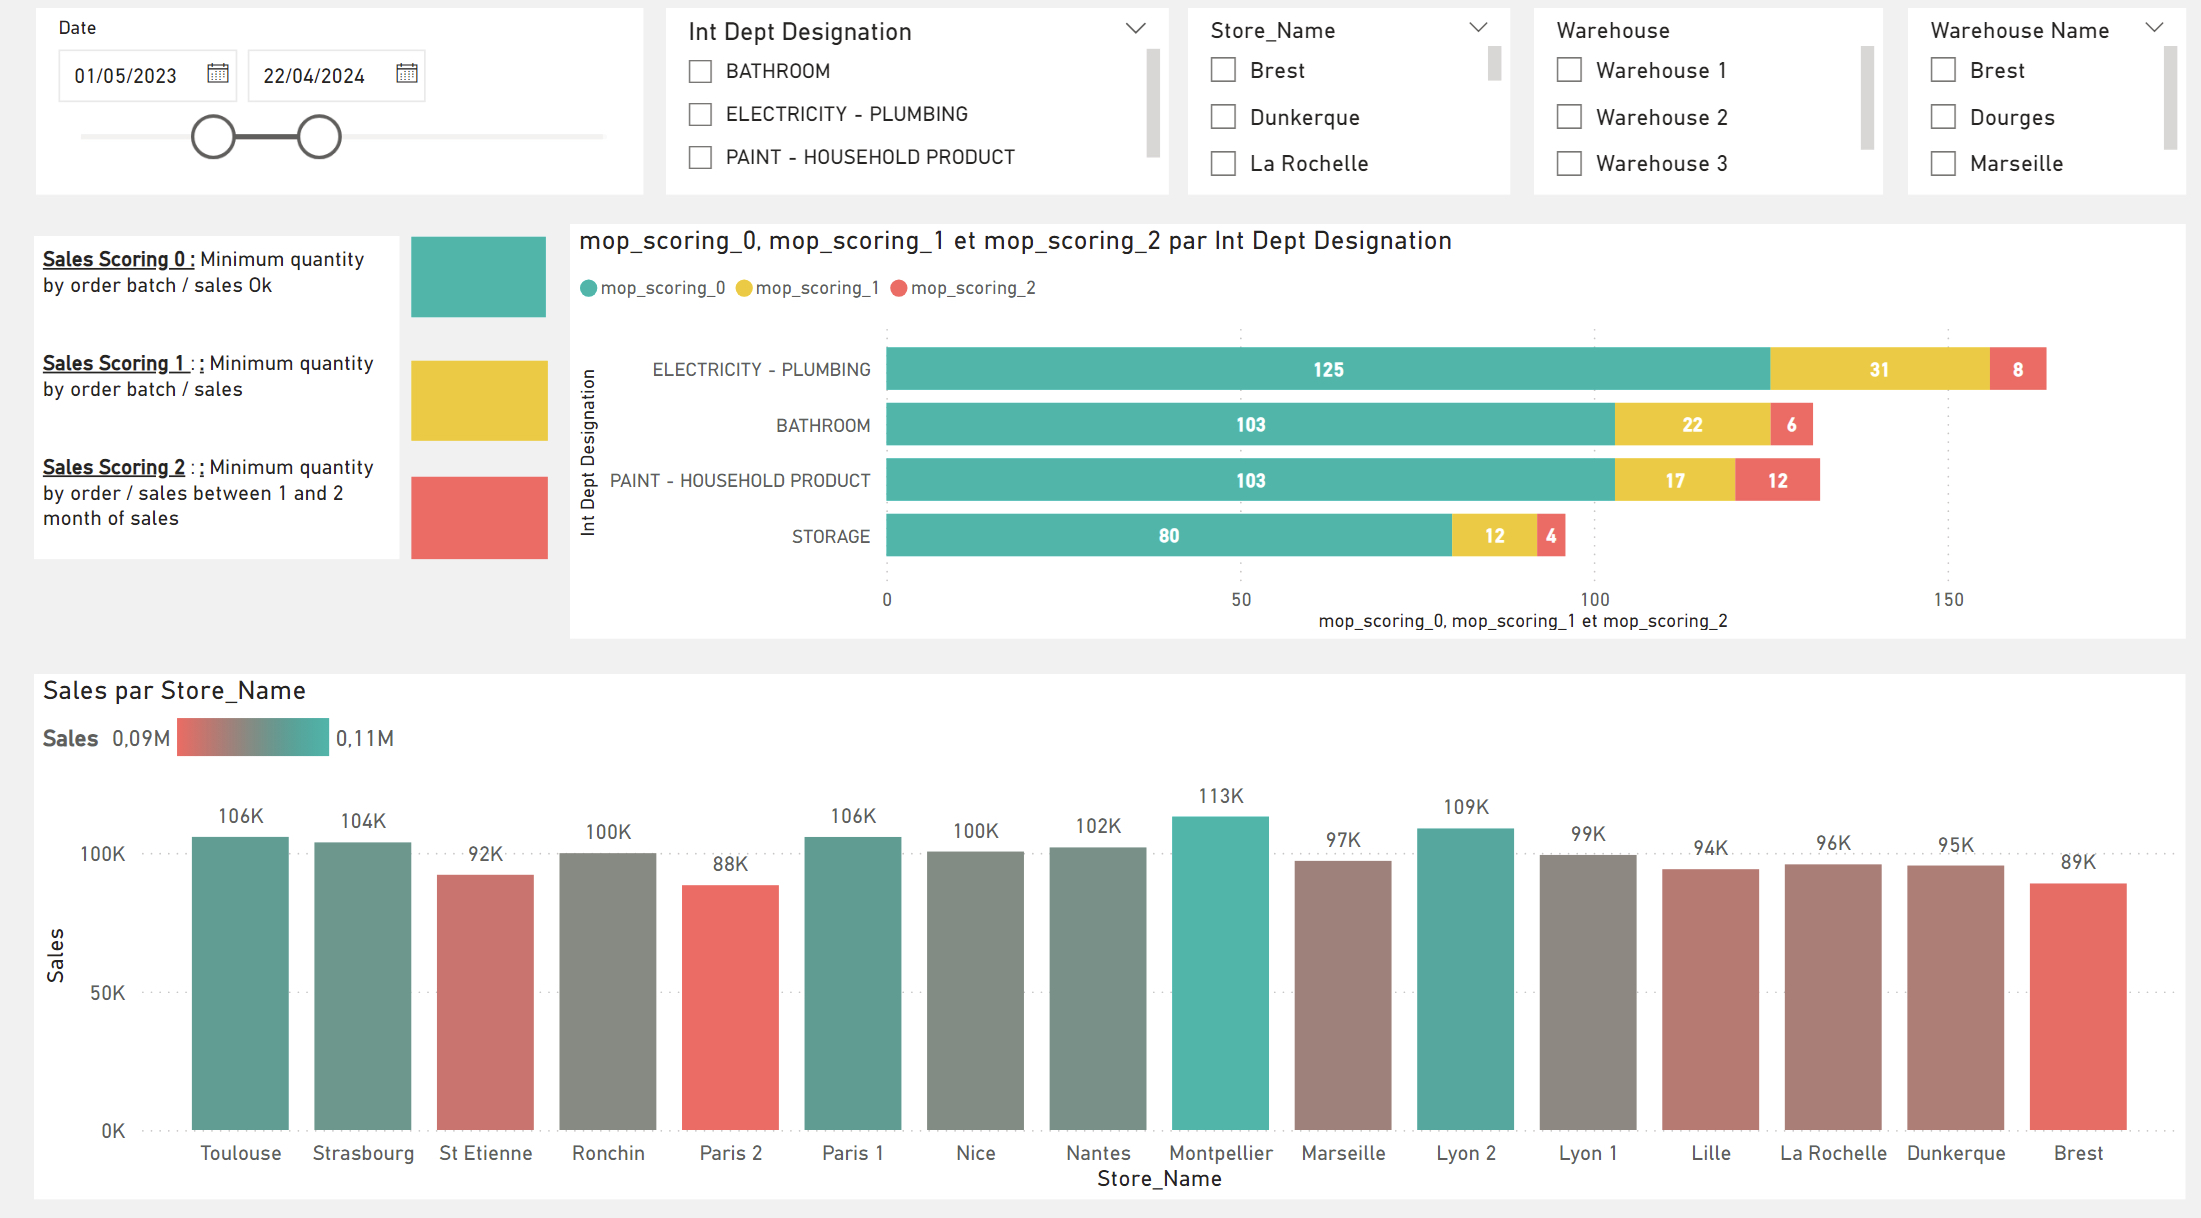

Layout of this report page (visuals, bound fields, positions):
{"tool":"powerbi","page":{"name":"sales performance","canvas":[1280,720],"ordinal":0},"visuals":[{"type":"slicer","fields":{"Values":["calendar.Date"]},"box":[21.6,14,351.7,107.9],"z":0},{"type":"slicer","fields":{"Values":["international_range.Int Dept Designation"]},"box":[386,14,290.8,107.9],"z":1000},{"type":"slicer","fields":{"Values":["store.Store_Name"]},"box":[688.3,14,186.7,107.9],"z":2000},{"type":"slicer","fields":{"Values":["stock_data.Warehouse"]},"box":[888.9,14,201.9,107.9],"z":3000},{"type":"basicShape","box":[238.7,145.7,79.4,47.4],"z":4000},{"type":"basicShape","box":[238.7,217.4,80.6,47.1],"z":5000},{"type":"basicShape","box":[238.7,284.3,80.6,48.6],"z":6000},{"type":"textbox","box":[21.3,145.9,211.3,187],"z":7000},{"type":"columnChart","fields":{"Y":["Sum(sales_data.Sales)"],"Category":["store.Store_Name"]},"box":[21.3,399.8,1245,304],"z":9000},{"type":"slicer","fields":{"Values":["warehouse.Warehouse Name"]},"box":[1105.2,13.7,161.1,107.9],"z":10000},{"type":"barChart","fields":{"Category":["international_range.Int Dept Designation","international_range.Department Name","international_range.No Int Family"],"Y":["Measures (2).mop_scoring_0","Measures (2).mop_scoring_1","Measures (2).mop_scoring_2"]},"box":[331.4,138.3,934.9,240.2],"z":11000}]}

Visuals, with their boxes in screenshot pixels (x1, y1, x2, y2), scaled from the page's 1280x720 canvas onto the 2201x1218 screenshot:
slicer - calendar.Date: <bbox>37, 24, 642, 206</bbox>
slicer - international_range.Int Dept Designation: <bbox>664, 24, 1164, 206</bbox>
slicer - store.Store_Name: <bbox>1184, 24, 1505, 206</bbox>
slicer - stock_data.Warehouse: <bbox>1528, 24, 1876, 206</bbox>
basicShape: <bbox>410, 246, 547, 327</bbox>
basicShape: <bbox>410, 368, 549, 447</bbox>
basicShape: <bbox>410, 481, 549, 563</bbox>
textbox: <bbox>37, 247, 400, 563</bbox>
columnChart - Sum(sales_data.Sales) x store.Store_Name: <bbox>37, 676, 2177, 1191</bbox>
slicer - warehouse.Warehouse Name: <bbox>1900, 23, 2177, 206</bbox>
barChart - international_range.Int Dept Designation x international_range.Department Name: <bbox>570, 234, 2177, 640</bbox>
